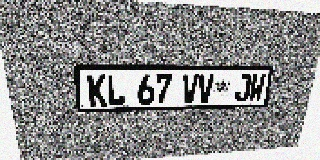6: (138, 74, 155, 105)
7: (155, 74, 172, 105)
J: (234, 74, 252, 102)
K: (87, 74, 107, 107)
L: (106, 74, 125, 106)
V: (181, 74, 199, 104), (197, 74, 214, 103)
W: (248, 74, 266, 102)
